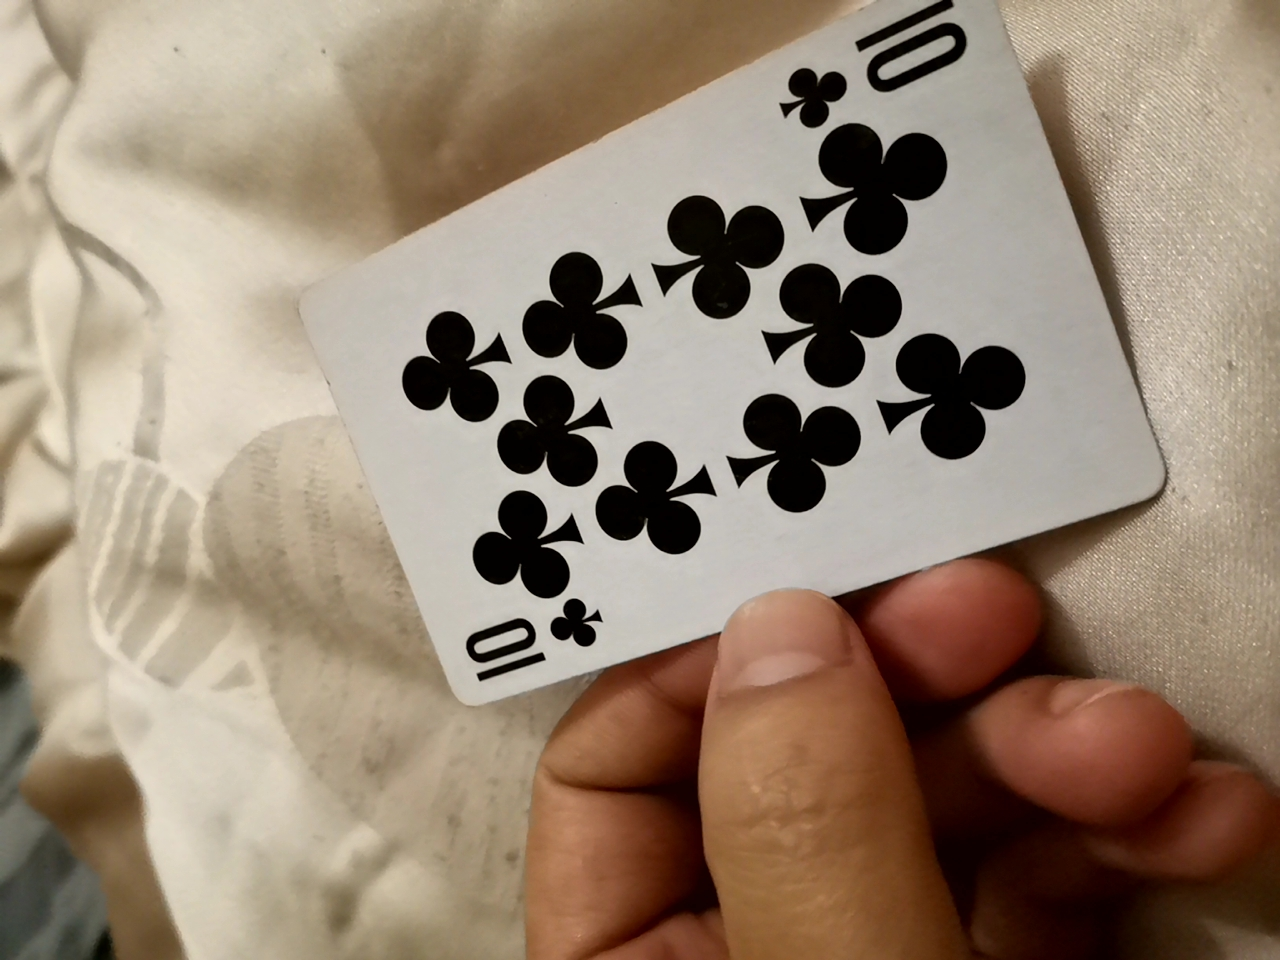mh 10: (321, 11, 1132, 727)
